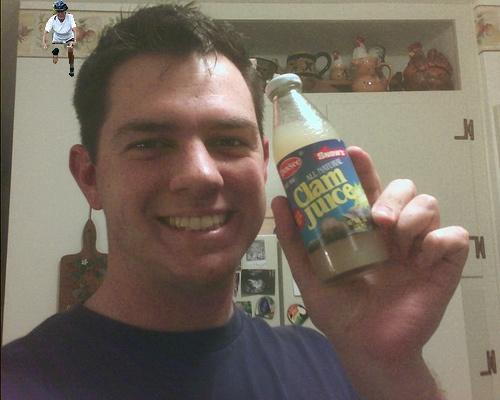tampered: (44, 1, 76, 77)
